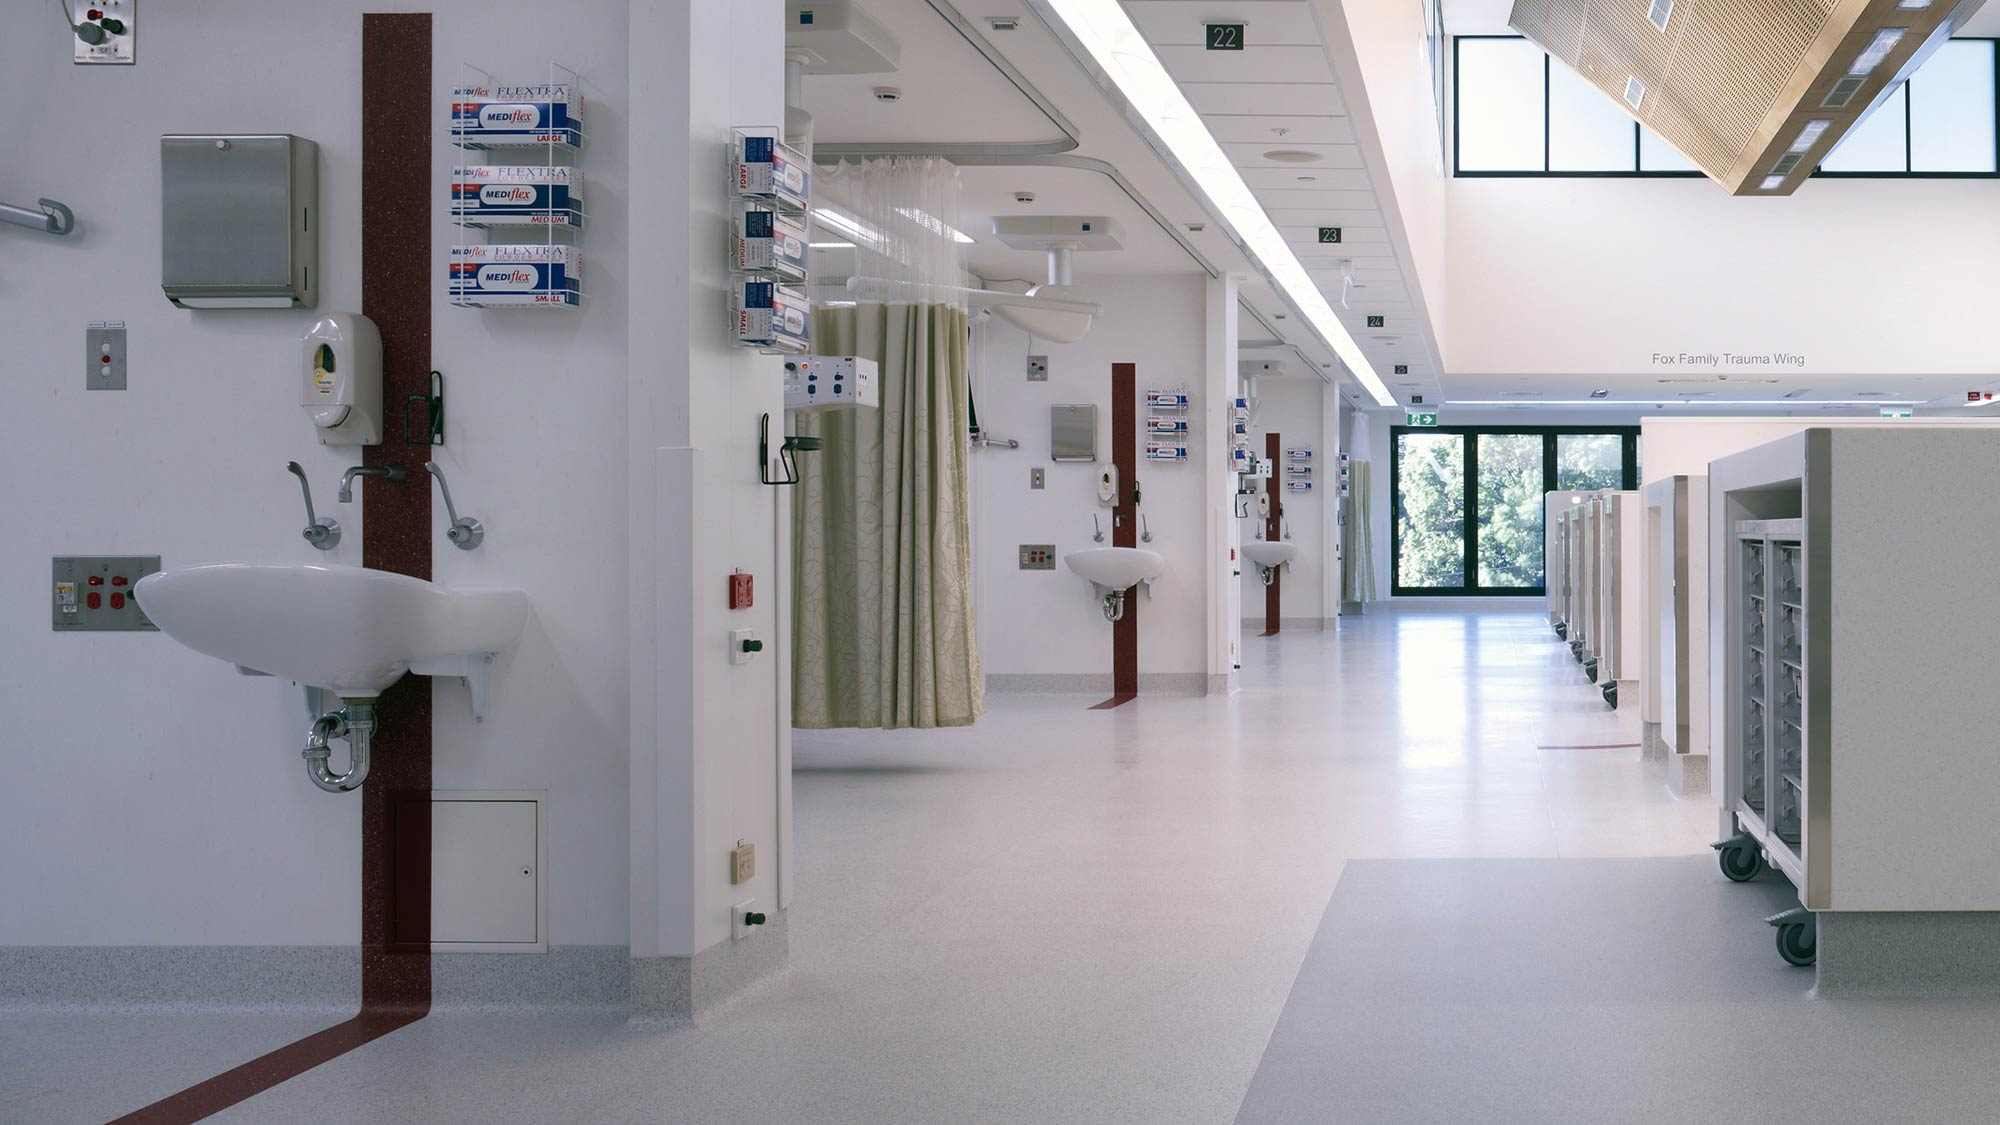curtain: (791, 157, 985, 731), (1341, 412, 1376, 603)
dispenser: (159, 130, 321, 310), (444, 96, 582, 305), (720, 135, 815, 348), (295, 310, 386, 449), (1051, 402, 1100, 464), (1096, 463, 1120, 507), (1257, 492, 1271, 518)
drawer: (1705, 440, 1999, 995)
faucet: (280, 460, 485, 551), (1091, 512, 1152, 544), (1255, 521, 1293, 540)
sink: (132, 562, 530, 793), (1063, 547, 1166, 622), (1240, 543, 1297, 587)
